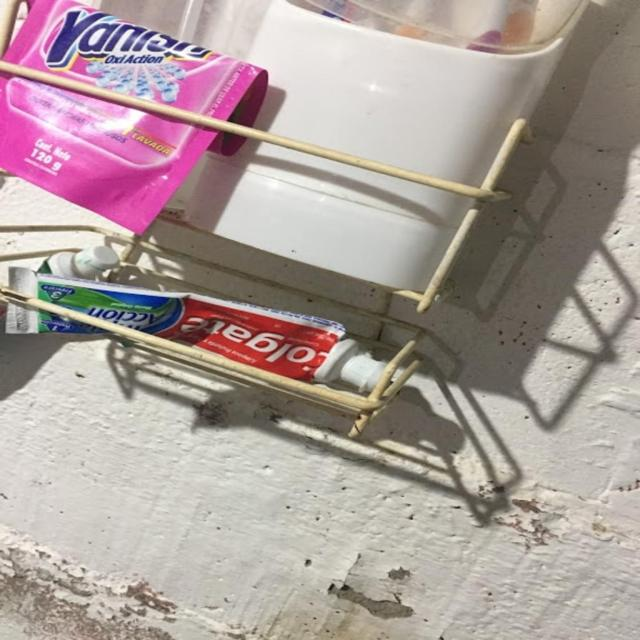Toothpaste: (8, 266, 440, 414)
